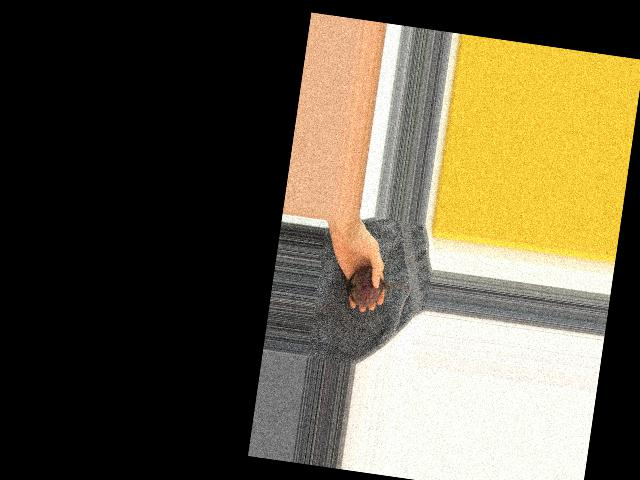beet: (343, 264, 414, 314)
